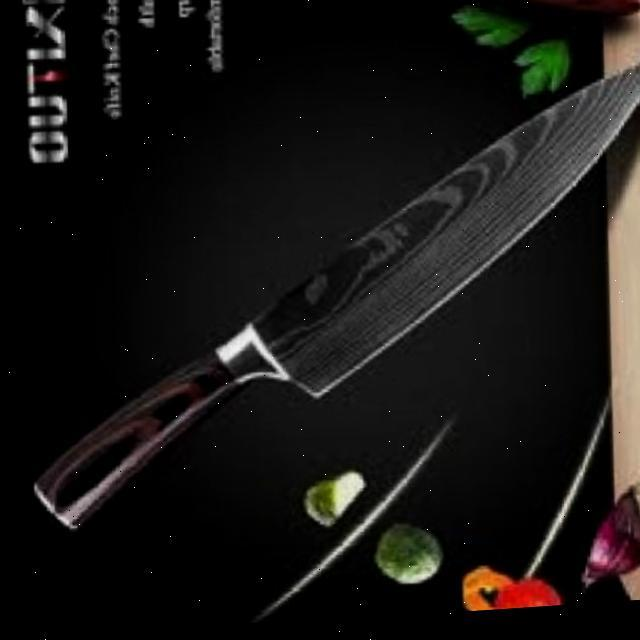knife: (15, 38, 640, 550)
